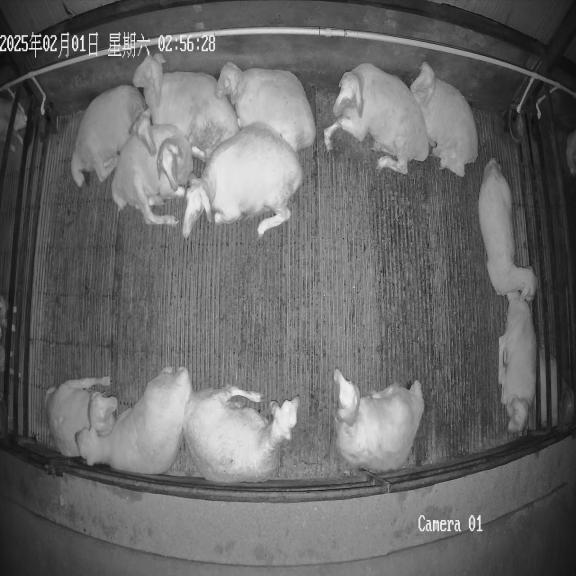lying: (182, 124, 302, 238), (76, 367, 192, 474), (324, 64, 429, 174), (133, 54, 239, 161), (183, 386, 299, 483), (334, 370, 424, 474), (216, 62, 316, 151), (111, 124, 197, 226), (71, 85, 156, 187), (478, 158, 536, 301), (410, 62, 478, 177), (46, 377, 117, 456), (498, 292, 536, 433)
